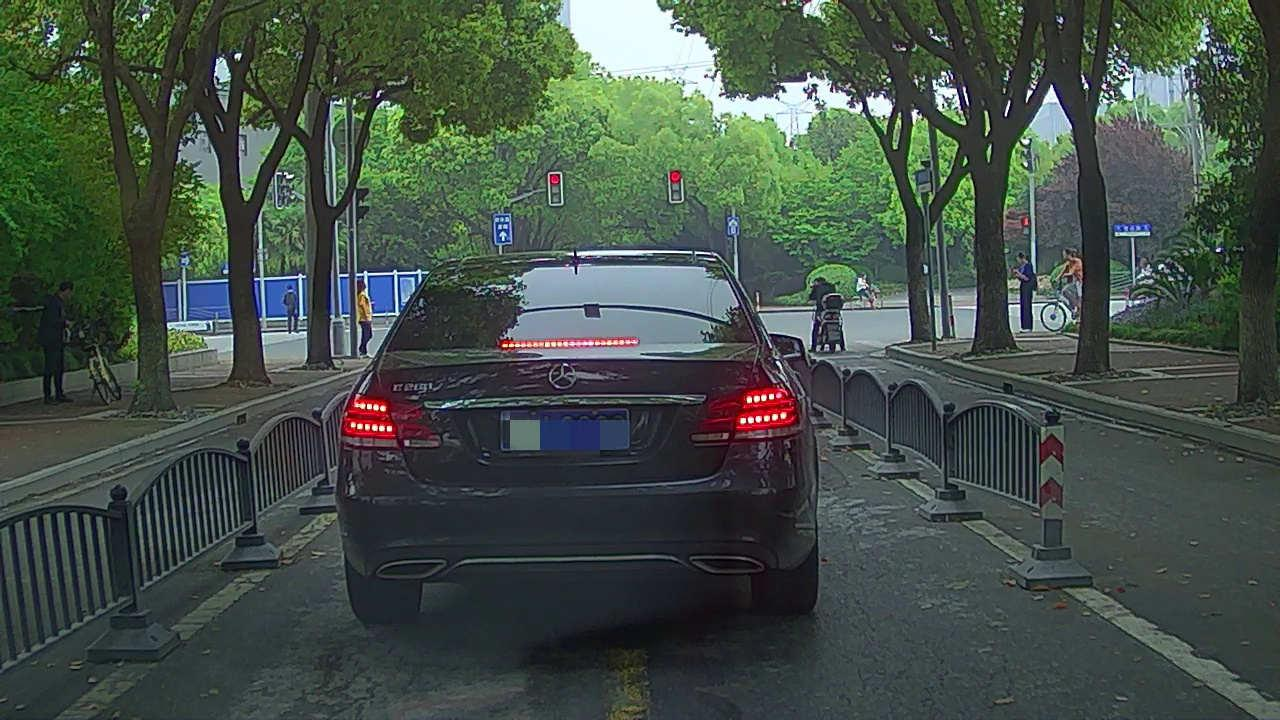traffic_light: (549, 174, 562, 205), (671, 170, 682, 203)
